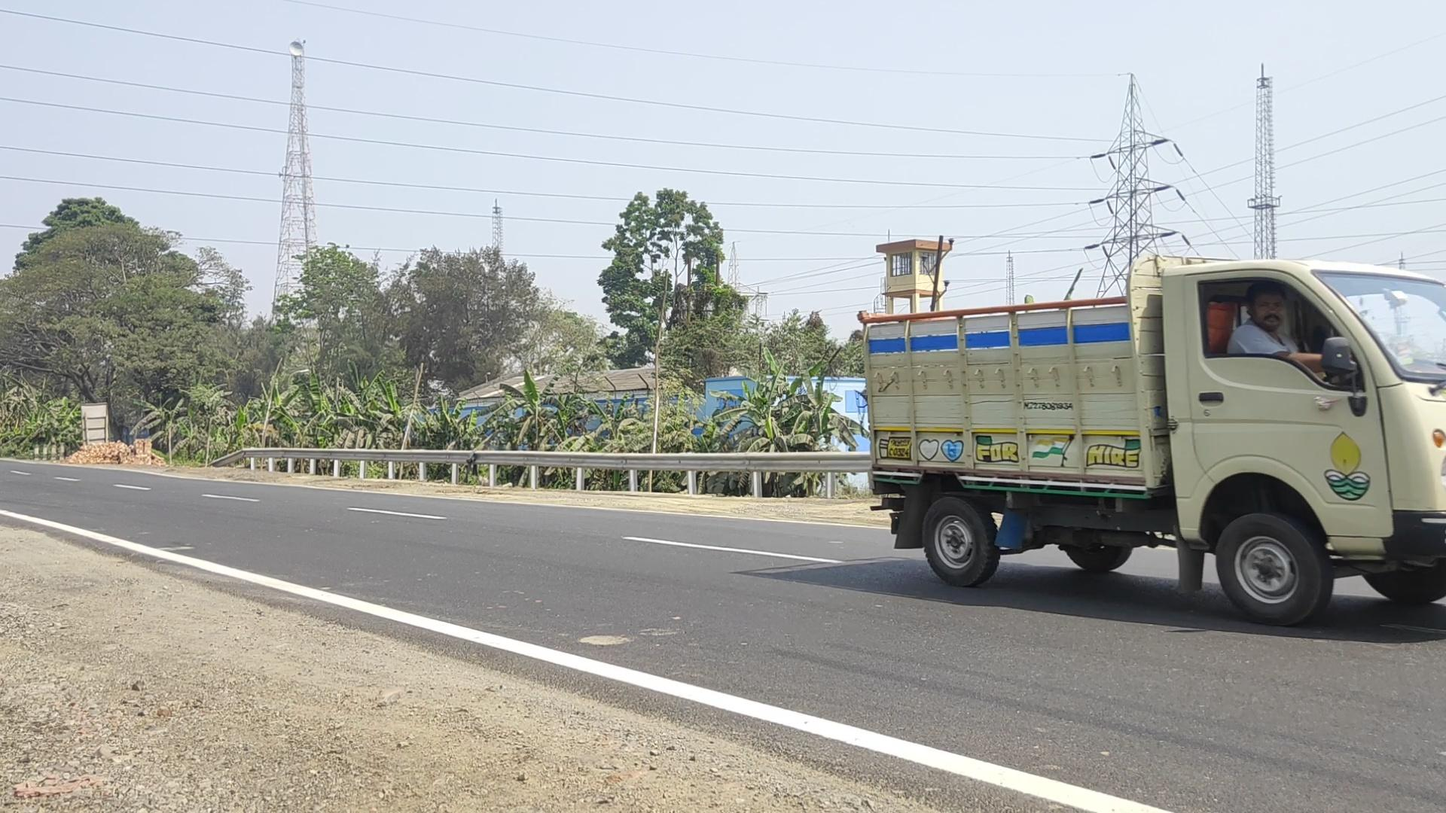van: (856, 254, 1446, 629)
